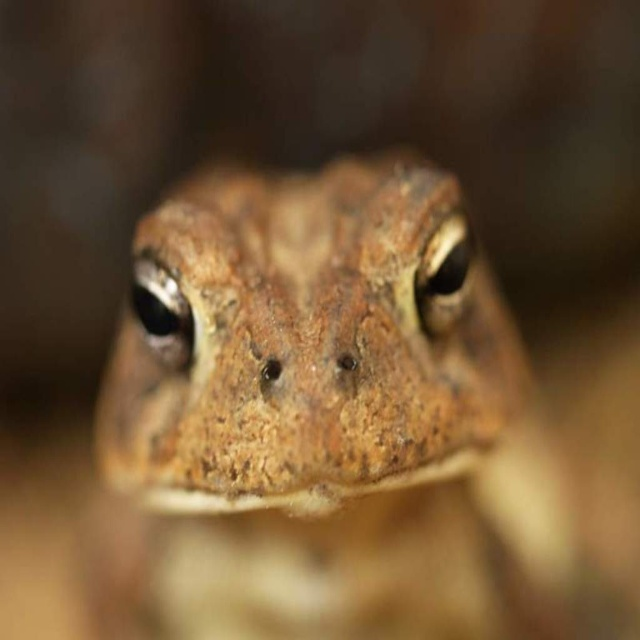Frog: (0, 147, 639, 639)
